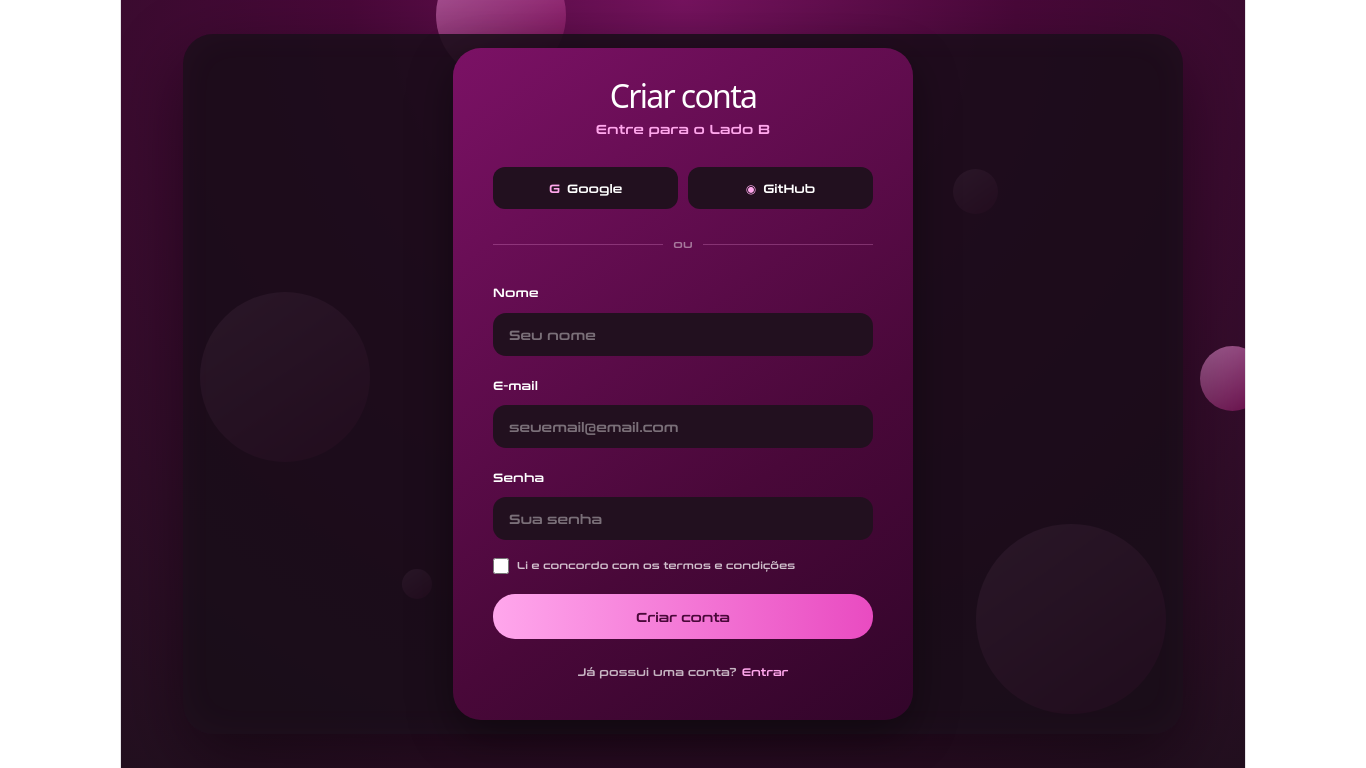
Scenario: Cadastro › link "Entrar" leva para a página de login
Click the button "Entrar" at (765, 671), box x1=742 y1=664 x2=788 y2=679
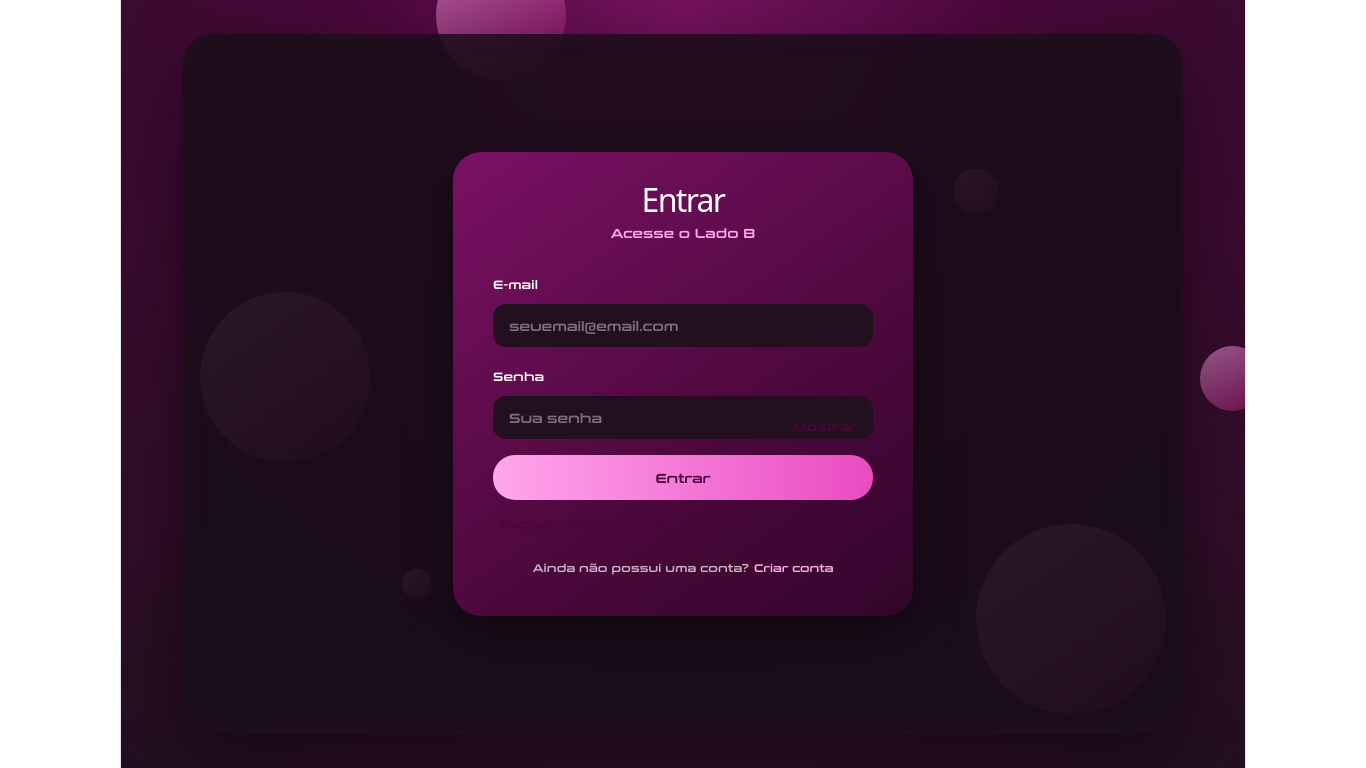
Expected: the heading "Entrar" is shown, x1=642 y1=178 x2=724 y2=221
